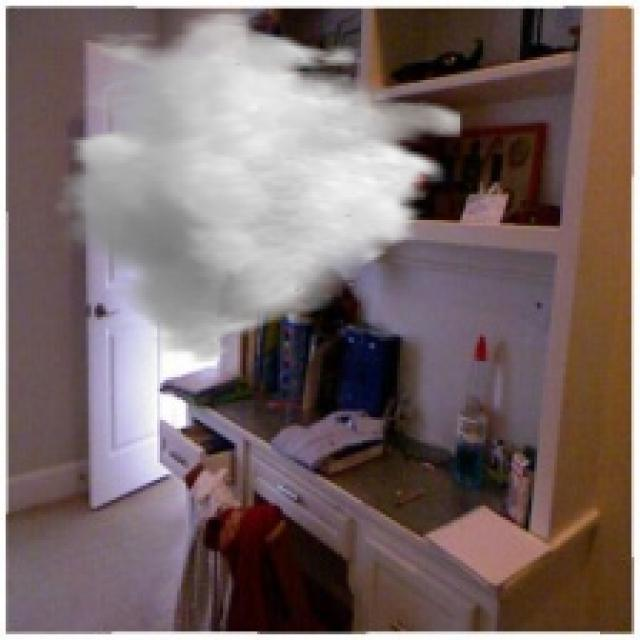Smoke: (54, 11, 463, 368)
